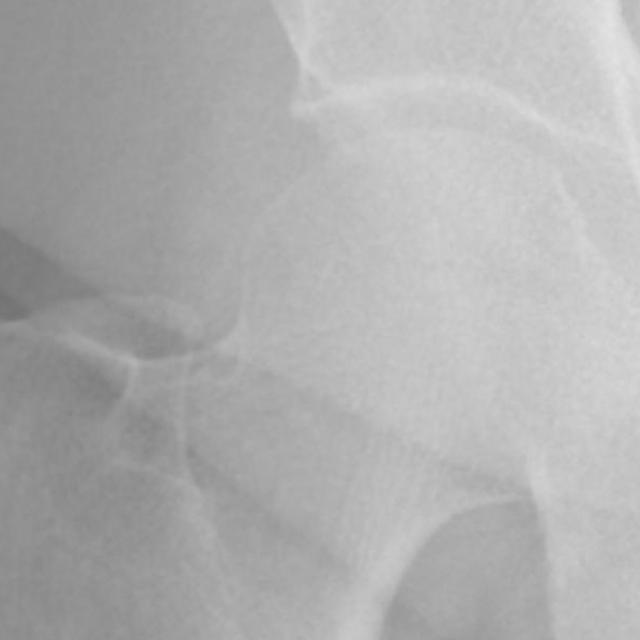Fitted_femural_head: (416, 126, 432, 416)
